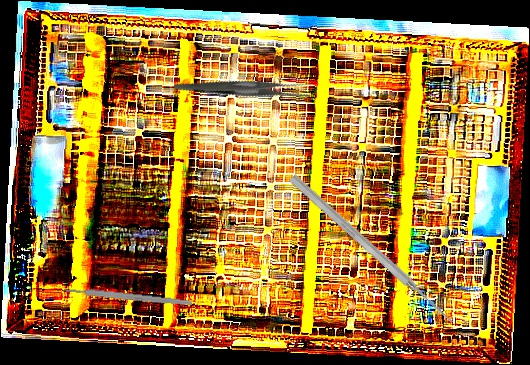Dressing Forceps: (173, 40, 314, 134)
Pusher: (287, 172, 457, 328)
Scalpel Handle: (63, 286, 193, 307)
